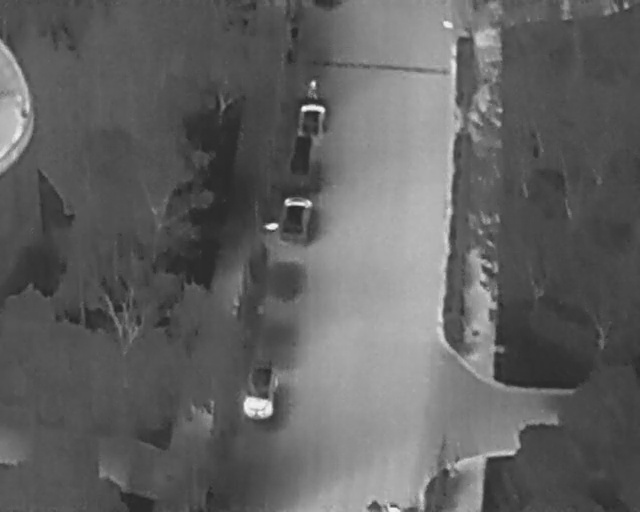Car: (240, 357, 280, 423), (278, 191, 315, 245), (298, 104, 326, 141)
Person: (305, 79, 319, 101)
